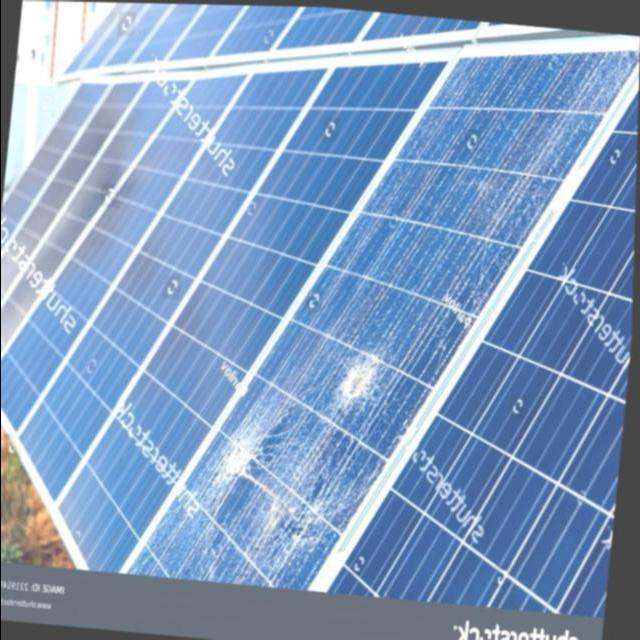cracked: (125, 49, 637, 588)
